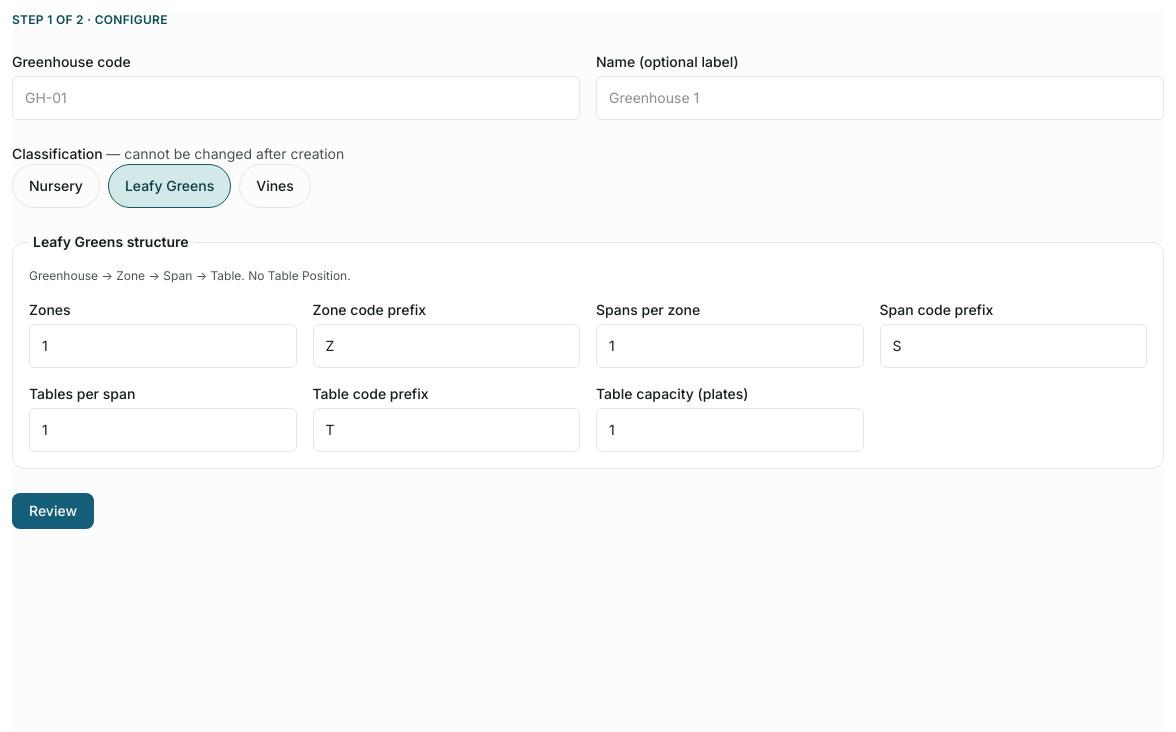
it: GreenhouseSetupForm › switches to the Nursery structure fields when Nursery is selected, including Seeding Station and Germination Chamber
Click the radio button labelled "Nursery" at x=56, y=186, box [12,164,100,208]
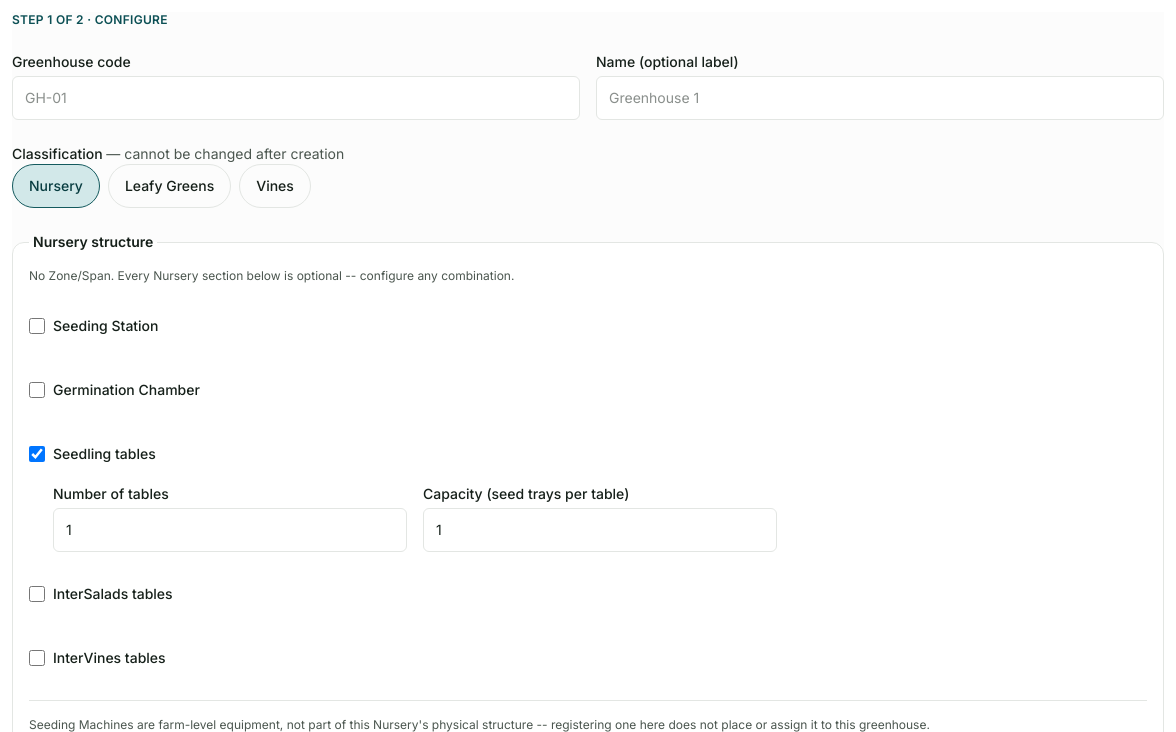
Result: the text "Nursery structure" is shown at [29,232,157,252]
Result: the text "Seeding Station" is shown at [29,317,158,334]
Result: the text "Germination Chamber" is shown at [29,381,200,398]
